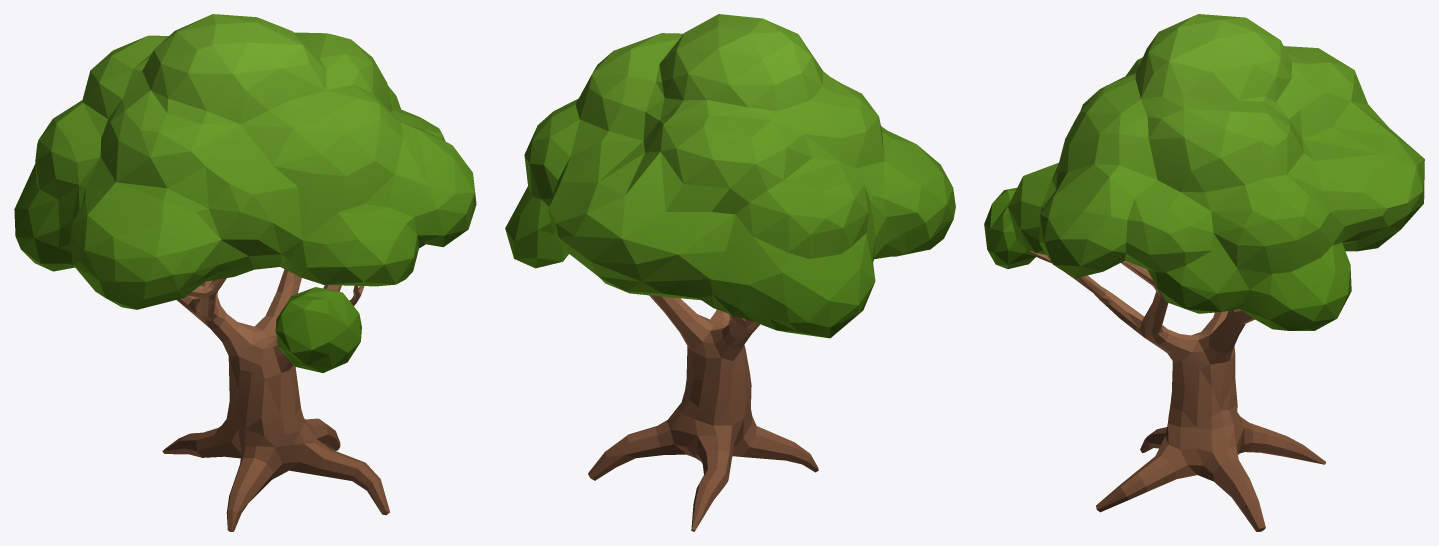
File: Tree_Common_03.fbx
The picture shows the model from 3 angles, left to right: view 1: azimuth 30°, elevation 25°; view 2: azimuth 150°, elevation 25°; view 3: azimuth 270°, elevation 25°; orthographic projection. The views are drawn at different scales.
Visible parts, largest first — view 1: Tree_Common_03; view 2: Tree_Common_03; view 3: Tree_Common_03.
Part boxes in pixels (bbox=[...]): Tree_Common_03: bbox=[14, 14, 476, 531]; Tree_Common_03: bbox=[505, 14, 955, 531]; Tree_Common_03: bbox=[984, 14, 1424, 531].
Bounding box in the file's own units: 686 × 838 × 746.
